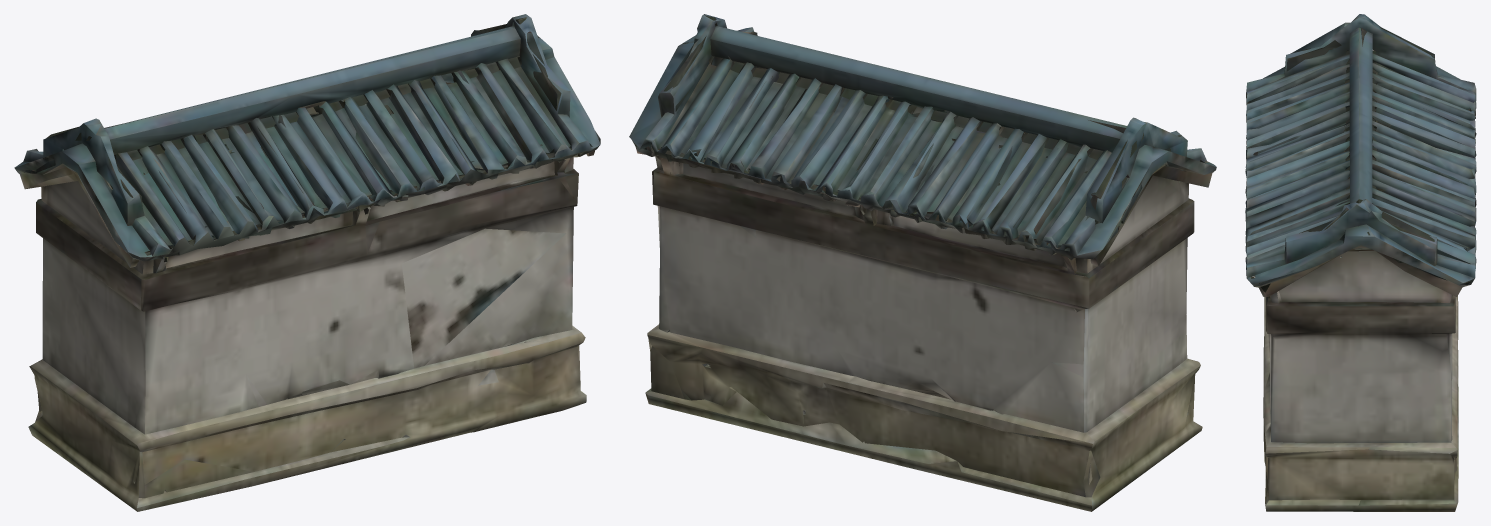
Rendered from ARCH-006.glb.
3 views of the same model, side by side, from view 1: azimuth 30°, elevation 25°; view 2: azimuth 150°, elevation 25°; view 3: azimuth 270°, elevation 25° (orthographic). The views are drawn at different scales.
Visible parts, largest first — view 1: world; view 2: world; view 3: world.
Boxes of the visible parts, box(x1,y1,x2,y2) form: world: box(14, 14, 600, 511); world: box(629, 14, 1216, 511); world: box(1245, 14, 1476, 511).
Size of the model in its own units: 3 by 2.12 by 1.44.
Materials: 1 (1 with a texture image).
